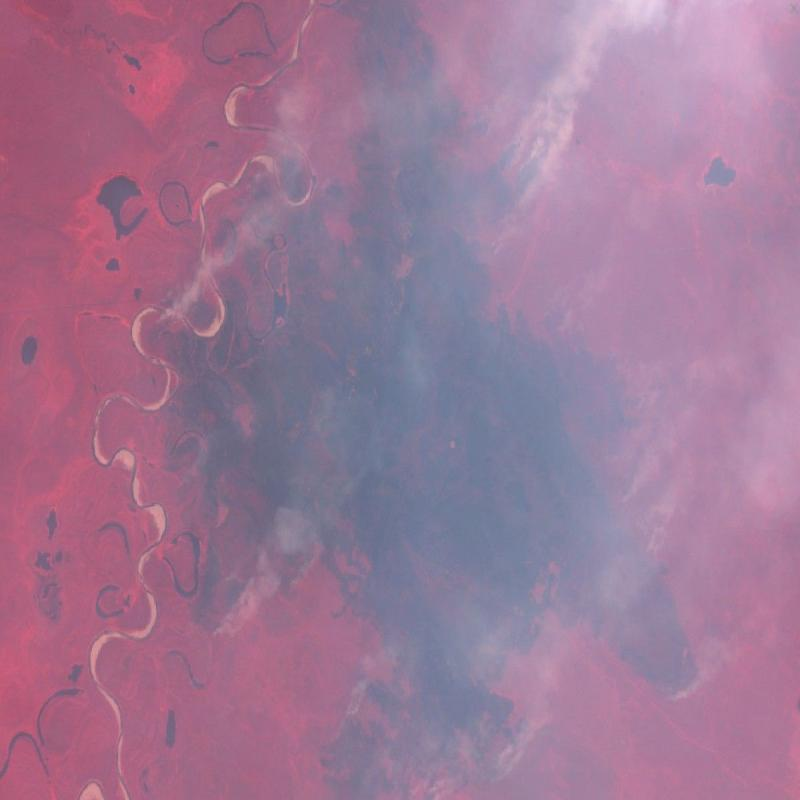fire: (474, 86, 552, 270), (618, 453, 671, 580), (324, 649, 386, 743), (649, 655, 712, 731), (198, 570, 248, 651), (477, 719, 532, 784), (141, 282, 184, 340)
